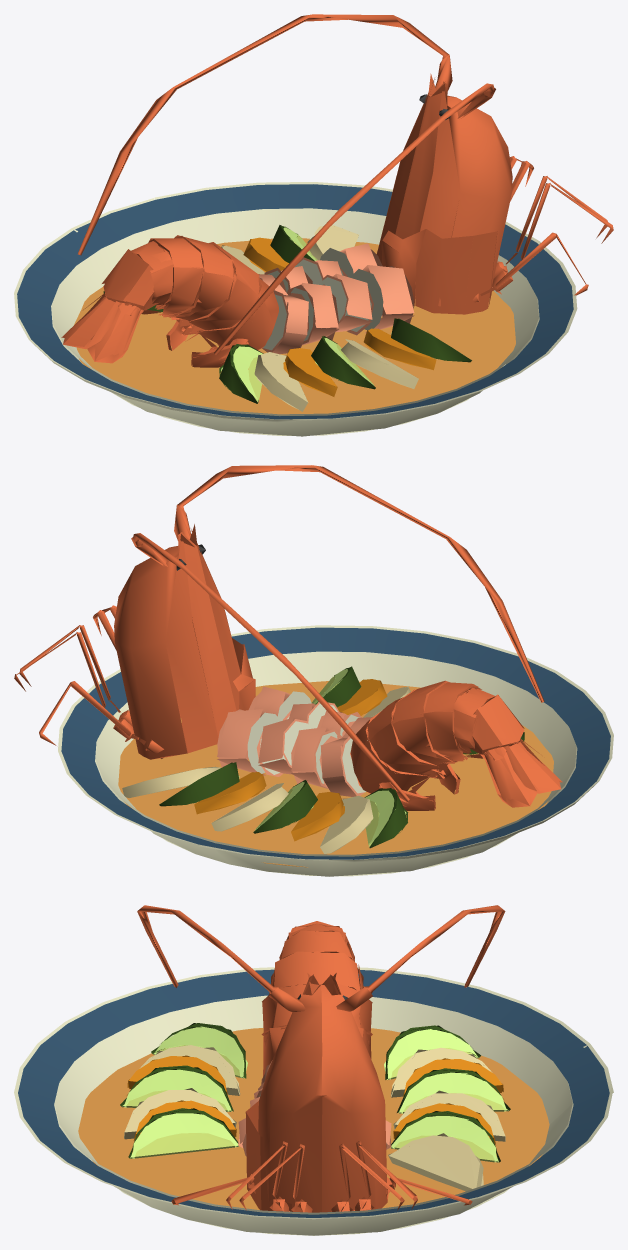
File: lobster.glb
3 views of the same model, one above another, from view 1: azimuth 30°, elevation 25°; view 2: azimuth 150°, elevation 25°; view 3: azimuth 270°, elevation 25° (orthographic). The views are drawn at different scales.
Visible parts, largest first — view 1: bowl.002; view 2: bowl.002; view 3: bowl.002.
Boxes of the visible parts, x1,y1,x2,y2 form: bowl.002: [14, 14, 613, 436]; bowl.002: [14, 465, 613, 876]; bowl.002: [14, 905, 613, 1235].
Bounding box in the file's own units: 1.33 × 0.6278 × 1.25.
